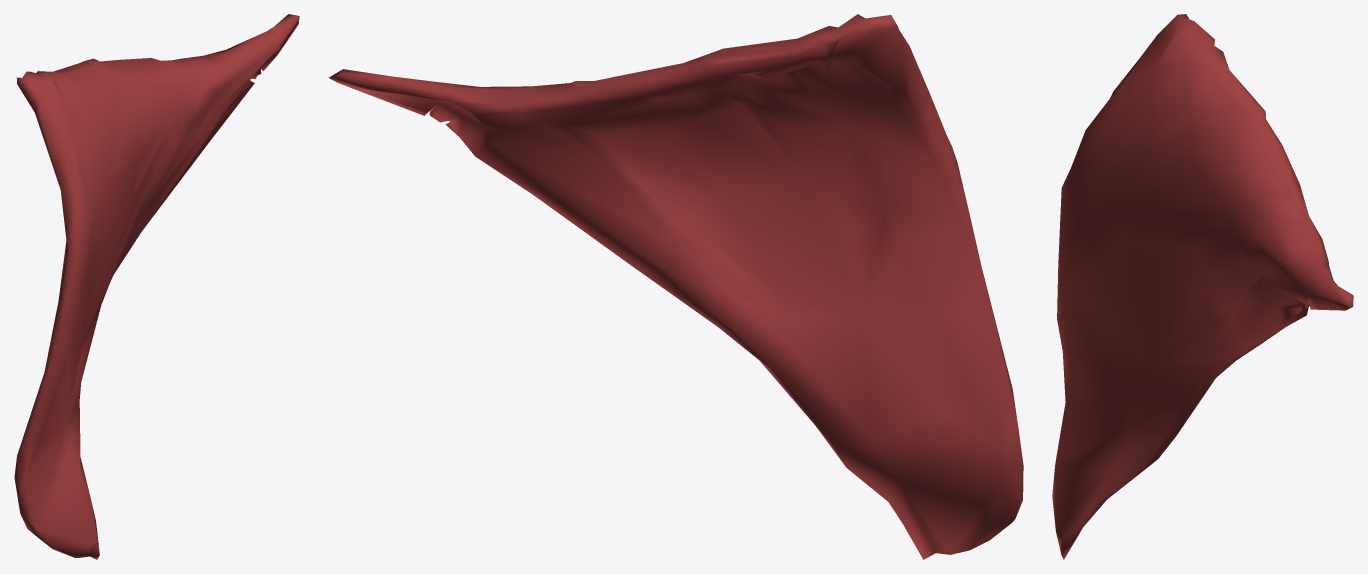
File: levator-labii-superioris-l.glb
The picture shows the model from 3 angles, left to right: view 1: azimuth 30°, elevation 25°; view 2: azimuth 150°, elevation 25°; view 3: azimuth 270°, elevation 25°; orthographic projection. The views are drawn at different scales.
Parts seen in each view (by area): view 1: Levator labii superioris.l; view 2: Levator labii superioris.l; view 3: Levator labii superioris.l.
Part boxes in pixels (<box>): Levator labii superioris.l: <box>14,14,299,559</box>; Levator labii superioris.l: <box>328,14,1023,559</box>; Levator labii superioris.l: <box>1052,14,1353,559</box>.
Size of the model in its own units: 0.027 by 0.0289 by 0.0149.
